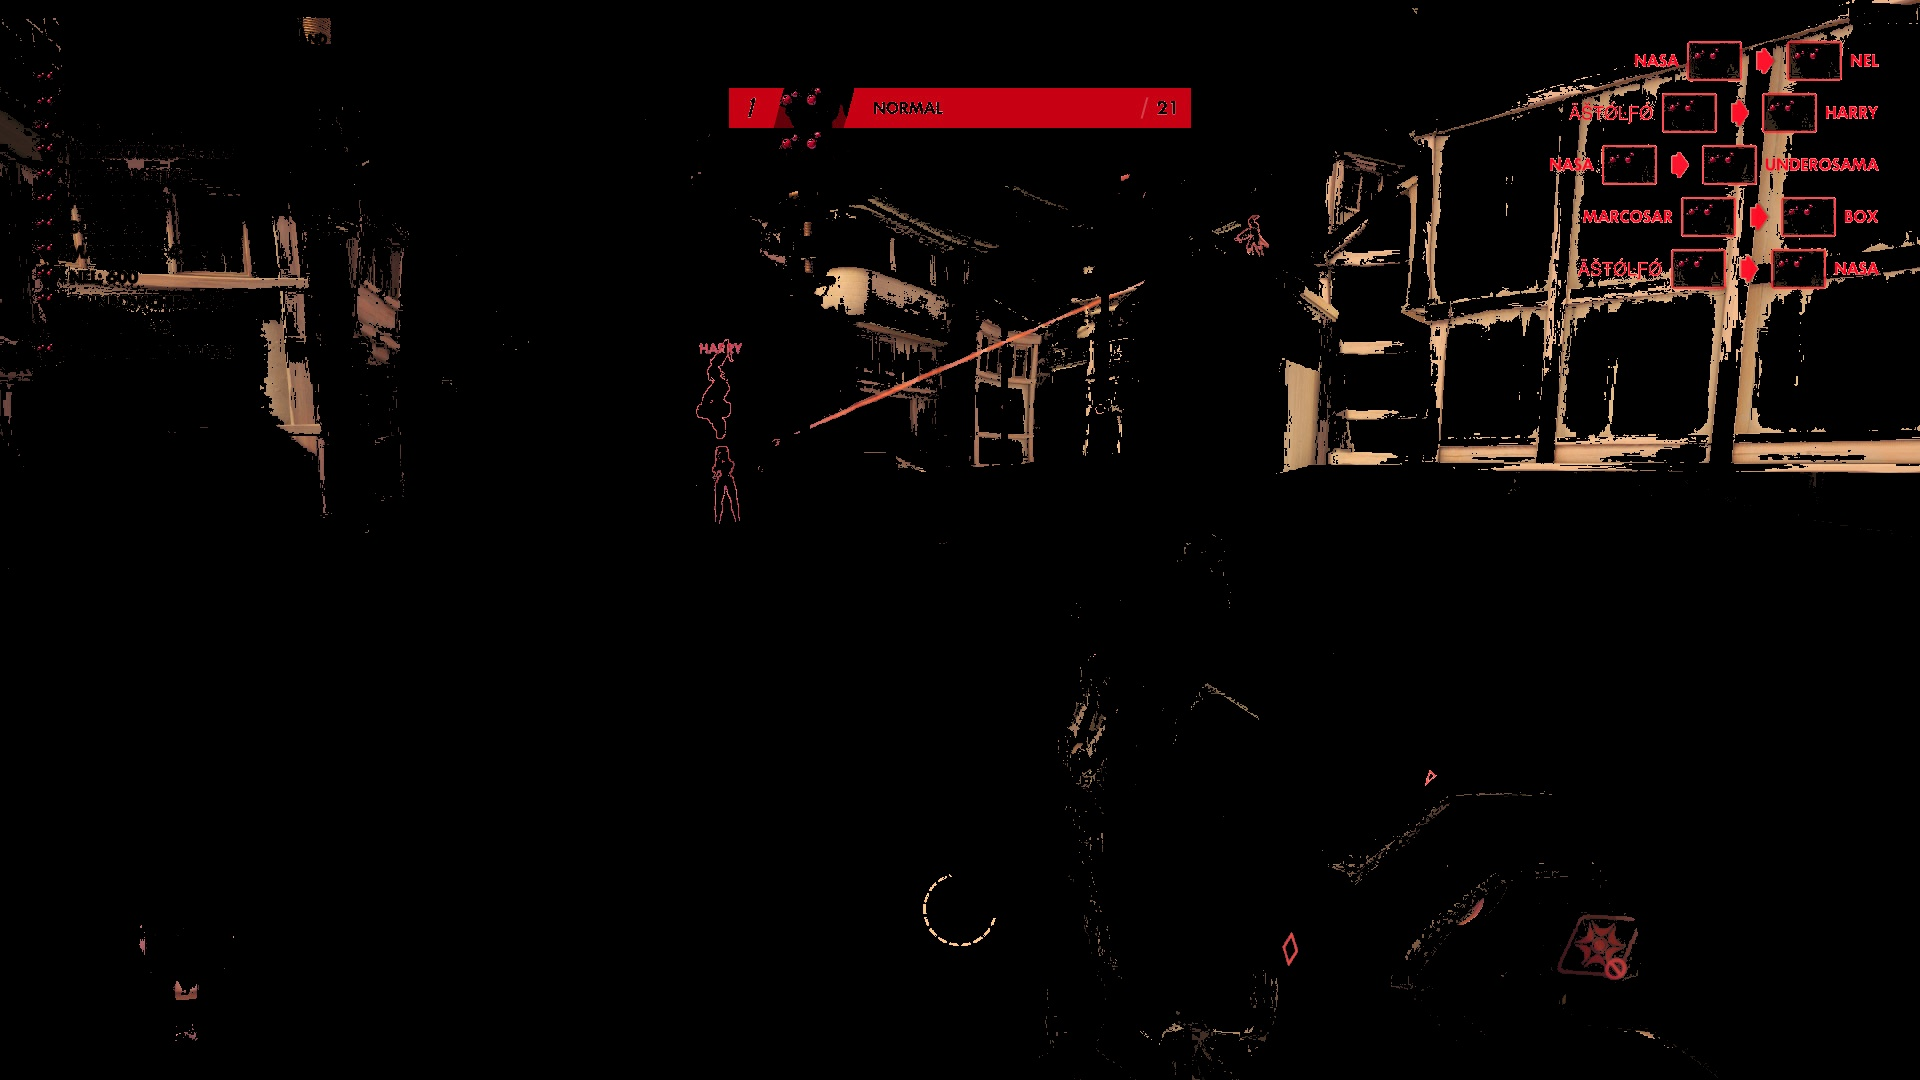widowmaker: (707, 446, 754, 539), (694, 355, 744, 438), (1236, 214, 1274, 262)
